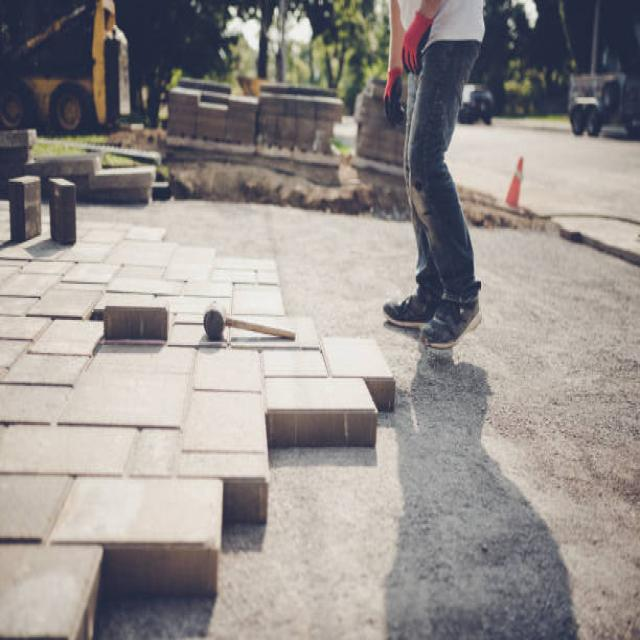gloves: (399, 8, 433, 74), (382, 66, 406, 127)
